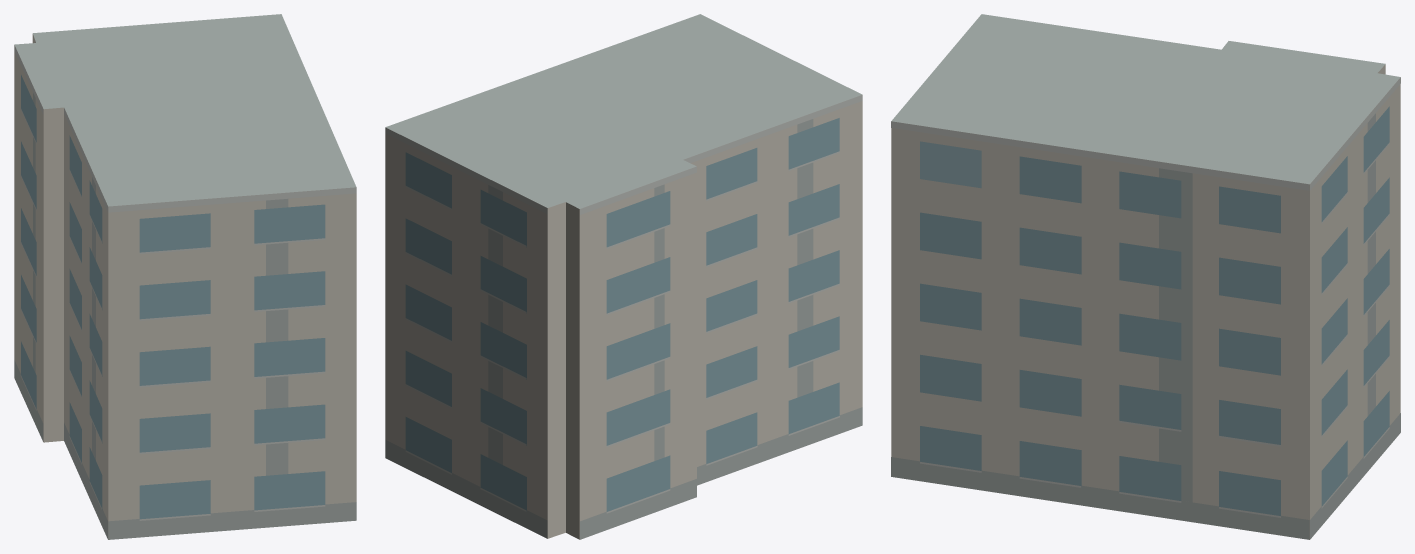
The model's file is survey-upis-32852651.glb.
The picture shows the model from 3 angles, left to right: view 1: azimuth 30°, elevation 25°; view 2: azimuth 150°, elevation 25°; view 3: azimuth 270°, elevation 25°; orthographic projection. The views are drawn at different scales.
Parts seen in each view (by area): view 1: survey-upis-32852651.tmp; view 2: survey-upis-32852651.tmp; view 3: survey-upis-32852651.tmp.
Boxes of the visible parts, left/top/right/bottom form: survey-upis-32852651.tmp: left=14, top=14, right=356, bottom=539; survey-upis-32852651.tmp: left=385, top=14, right=862, bottom=539; survey-upis-32852651.tmp: left=891, top=14, right=1400, bottom=539.
Bounding box in the file's own units: 13.47 × 13.1 × 17.03.
